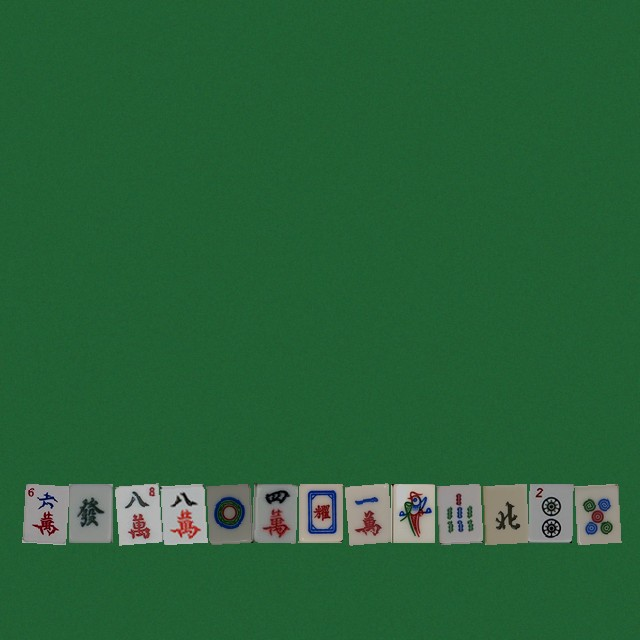tile: (22, 483, 66, 542), (68, 483, 112, 542), (114, 483, 158, 542), (160, 483, 204, 542), (206, 483, 250, 542), (252, 483, 296, 542), (298, 483, 342, 542), (344, 483, 388, 542), (390, 483, 434, 542), (436, 483, 480, 542), (482, 483, 526, 542), (528, 483, 572, 542), (574, 483, 618, 542)
